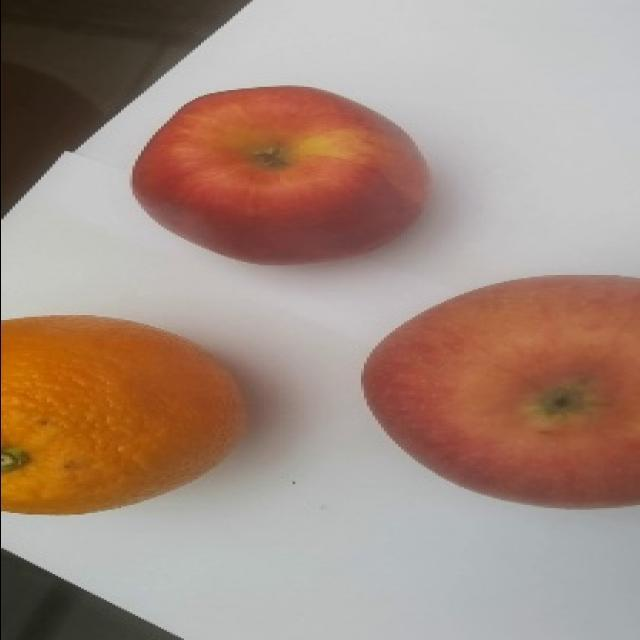Apple: (360, 272, 639, 509), (130, 84, 429, 266)
Orange: (0, 313, 248, 515)
